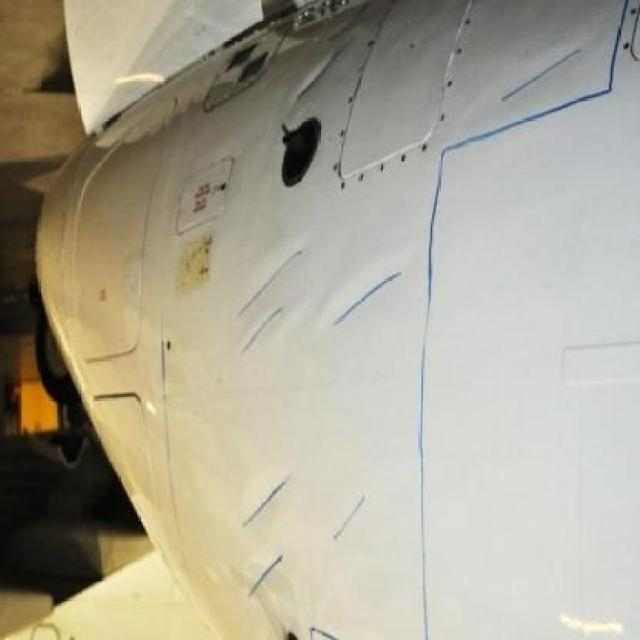dent: (497, 46, 595, 103), (233, 249, 304, 318), (330, 263, 404, 325), (301, 44, 350, 92), (247, 476, 295, 524), (244, 307, 287, 352), (246, 554, 282, 603), (338, 495, 371, 541)
